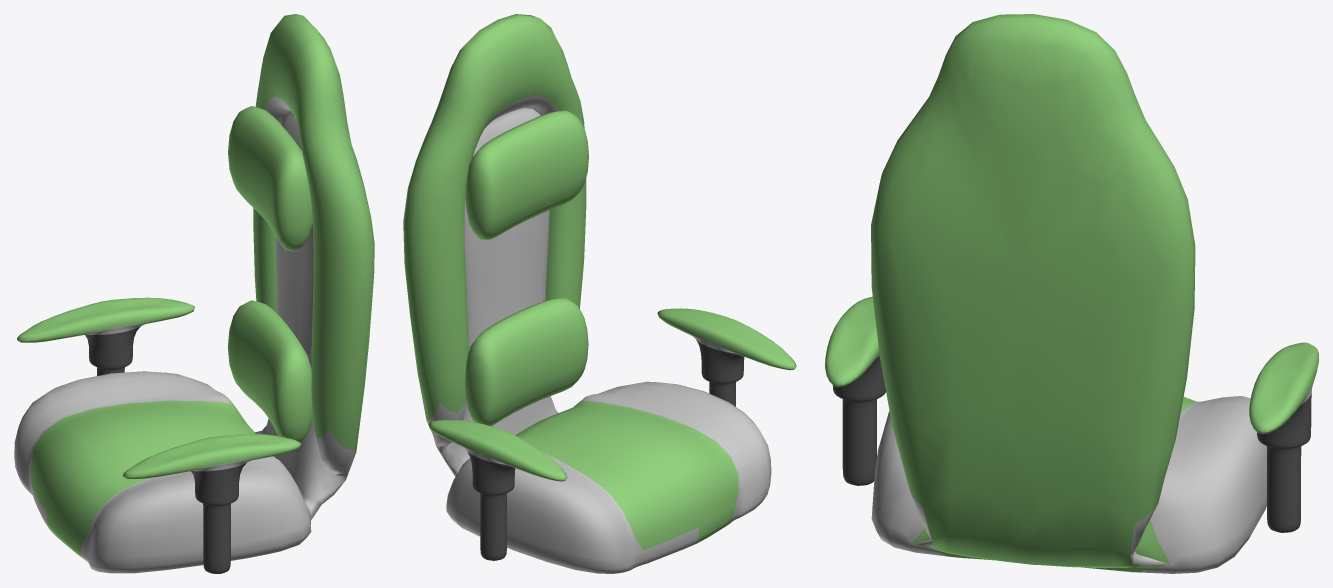
File: sobaGrupisano.glb
3 renders of one model, left to right at view 1: azimuth 30°, elevation 25°; view 2: azimuth 150°, elevation 25°; view 3: azimuth 270°, elevation 25°, orthographic. The views are drawn at different scales.
Visible parts, largest first — view 1: stolicaRotiraj; view 2: stolicaRotiraj; view 3: stolicaRotiraj.
Boxes of the visible parts, left/top/right/bottom form: stolicaRotiraj: left=14, top=14, right=374, bottom=573; stolicaRotiraj: left=403, top=14, right=796, bottom=573; stolicaRotiraj: left=825, top=14, right=1318, bottom=573.
Size of the model in its own units: 0.9523 by 1.49 by 1.14.
